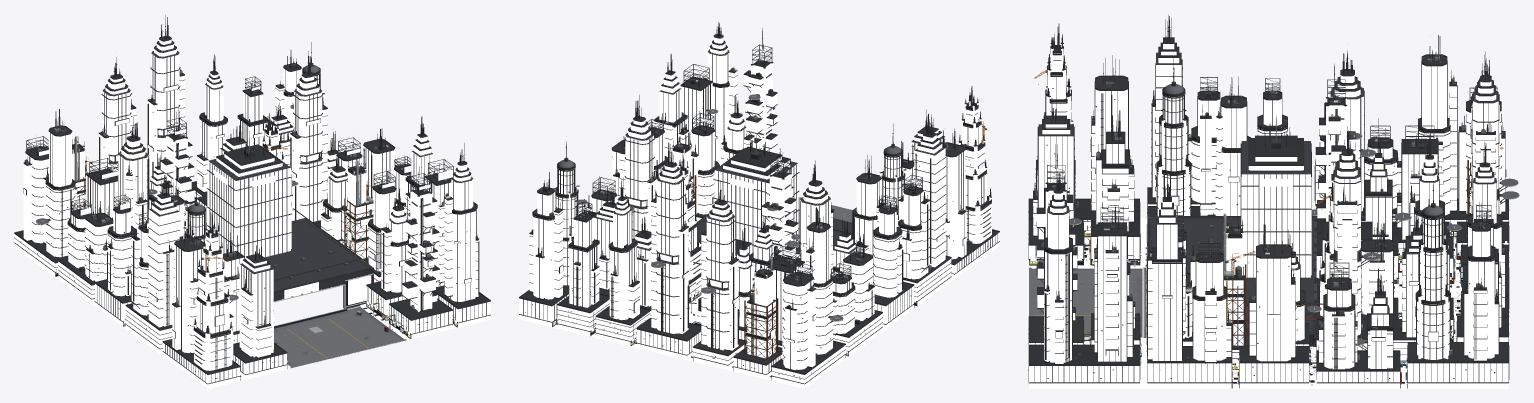
Rendered from Neonhafen.c95888bb3f.glb.
3 views of the same model, side by side, from view 1: azimuth 30°, elevation 25°; view 2: azimuth 150°, elevation 25°; view 3: azimuth 270°, elevation 25° (orthographic). The views are drawn at different scales.
Parts seen in each view (by area): view 1: Neonhafen; view 2: Neonhafen; view 3: Neonhafen.
Boxes of the visible parts, box(x1,y1,x2,y2) form: Neonhafen: box(14, 14, 490, 388); Neonhafen: box(519, 21, 999, 388); Neonhafen: box(1028, 14, 1519, 388).
Bounding box in the file's own units: 424 × 287 × 497.
